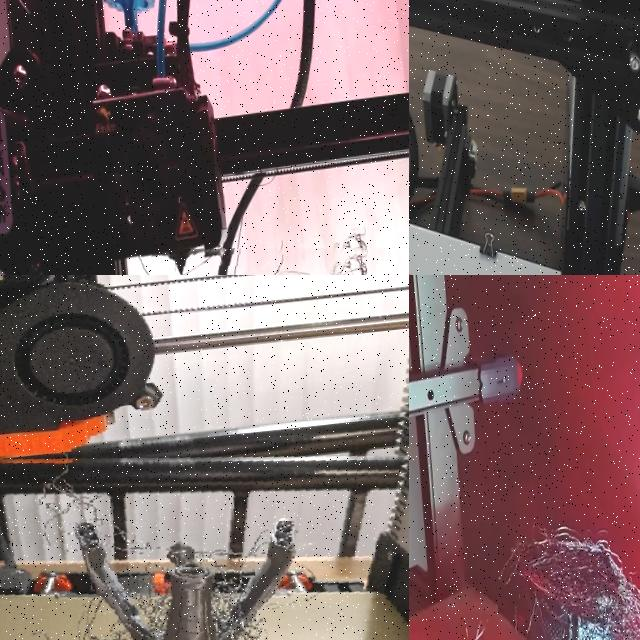spaghetti: (0, 461, 409, 640), (135, 211, 409, 275), (495, 529, 640, 640)
